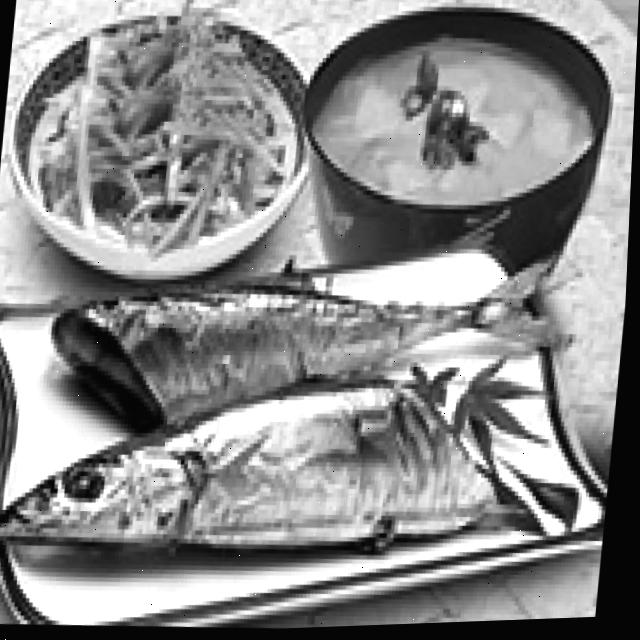熟制海鲜: (0, 184, 624, 640)
蔬菜料理: (13, 0, 307, 296)
